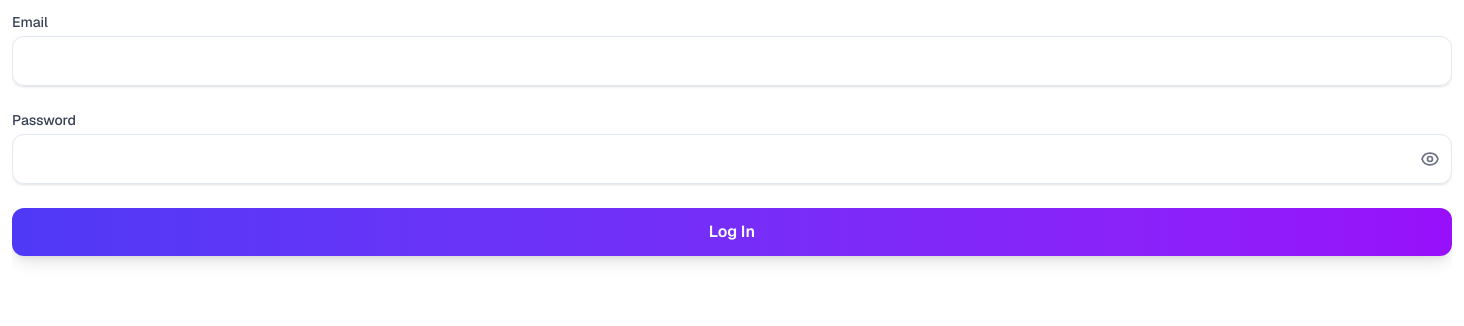
Test: Authentication Flows › displays an error for invalid login credentials
The image size is (1464, 326).
Step 1. Type "wrong@example.com" into the field labelled "Email" → (732, 61), box [12, 36, 1452, 86]
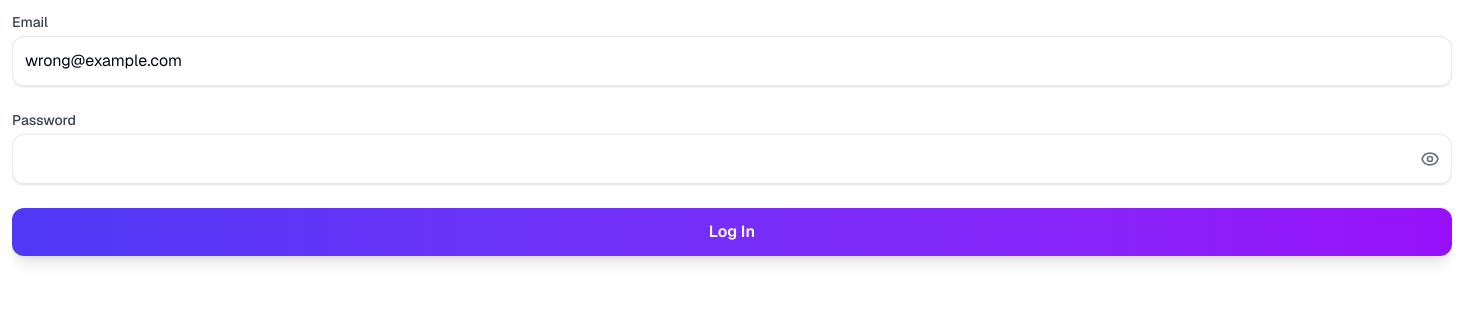
Step 2. Type "wrongpass" into the password field labelled "Password" → (732, 159), box [12, 134, 1452, 184]
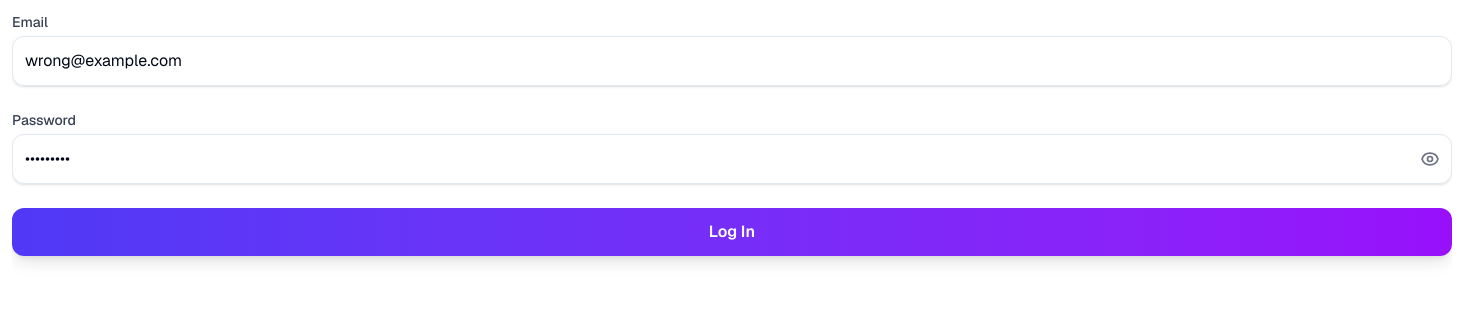
Step 3. Click the button "Log In" → (732, 232), box [12, 208, 1452, 256]
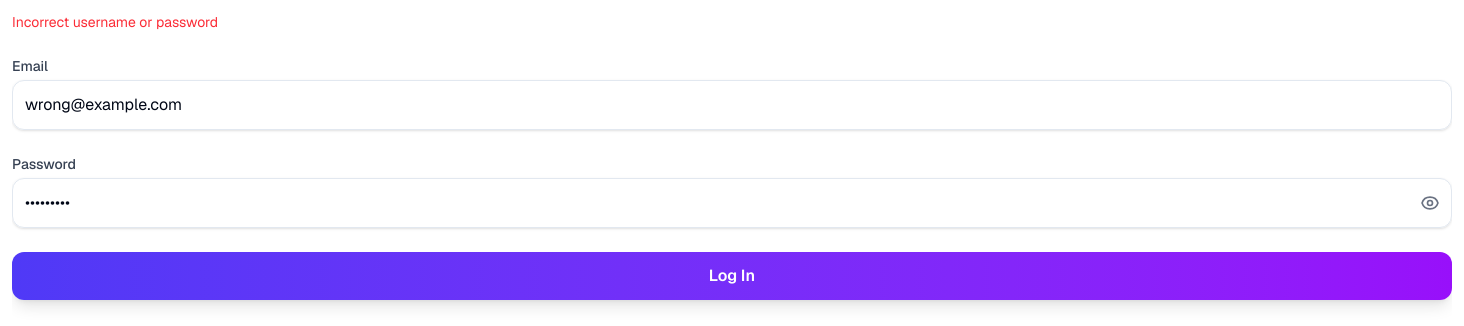
Now the text "Incorrect username or password" is shown, box [12, 13, 218, 31]
